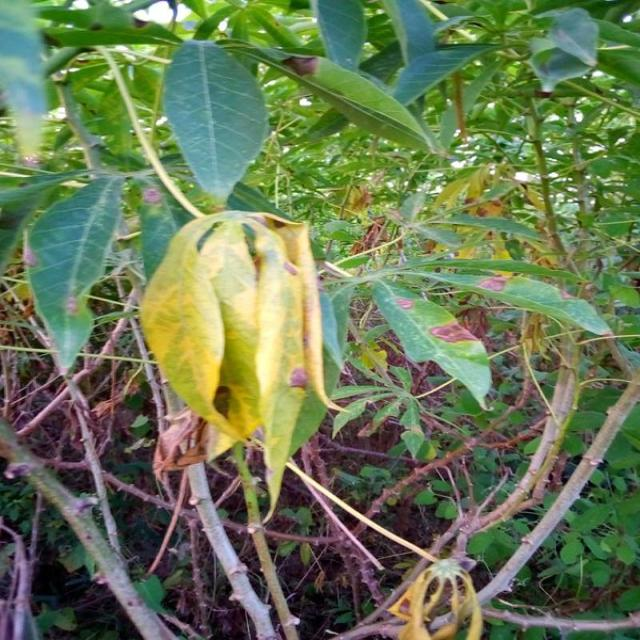cassava leaf: (138, 208, 336, 523), (23, 172, 124, 374), (161, 37, 270, 204), (370, 275, 492, 412)
